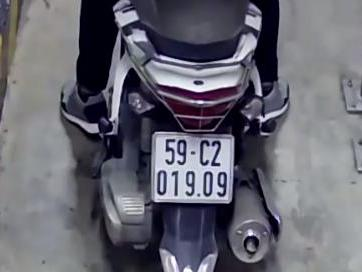num_plate: (150, 131, 235, 204)
